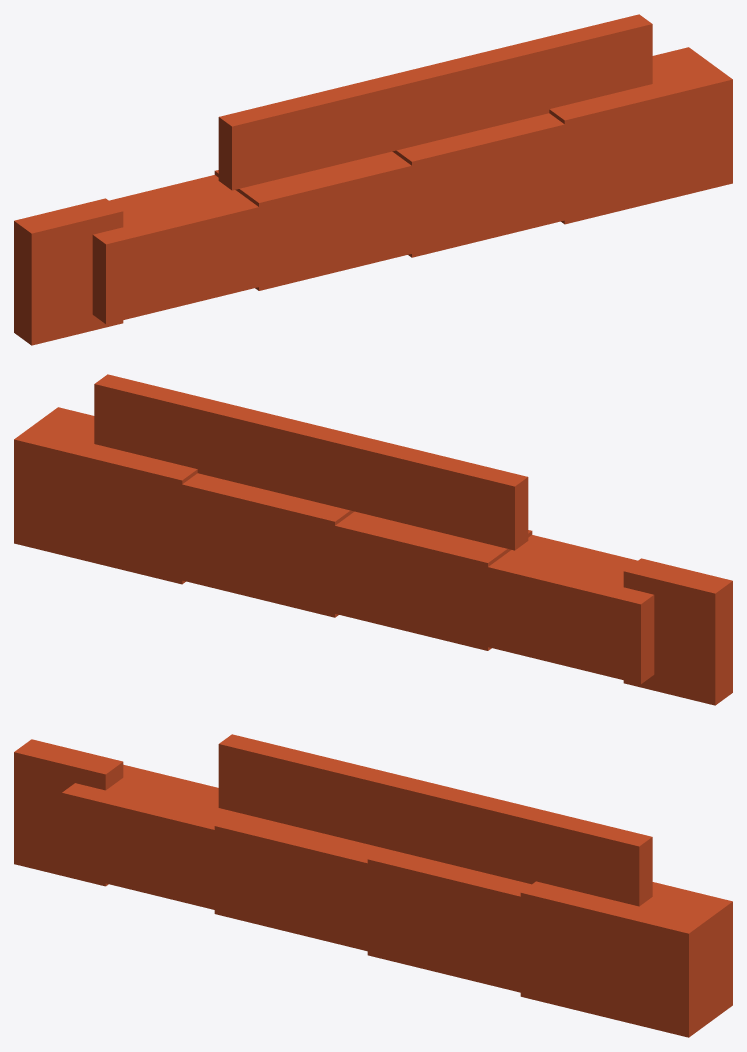
File: fish_ember_eel.glb
3 views of the same model, one above another, from view 1: azimuth 30°, elevation 25°; view 2: azimuth 150°, elevation 25°; view 3: azimuth 330°, elevation 25° (orthographic).
Parts seen in each view (by area): view 1: species.ember_eel; view 2: species.ember_eel; view 3: species.ember_eel.
Part boxes in pixels (x1,y1,x2,y2): species.ember_eel: [14, 14, 732, 345]; species.ember_eel: [14, 374, 732, 705]; species.ember_eel: [14, 734, 732, 1037].
Size of the model in its own units: 0.3 by 0.07 by 0.0333.
